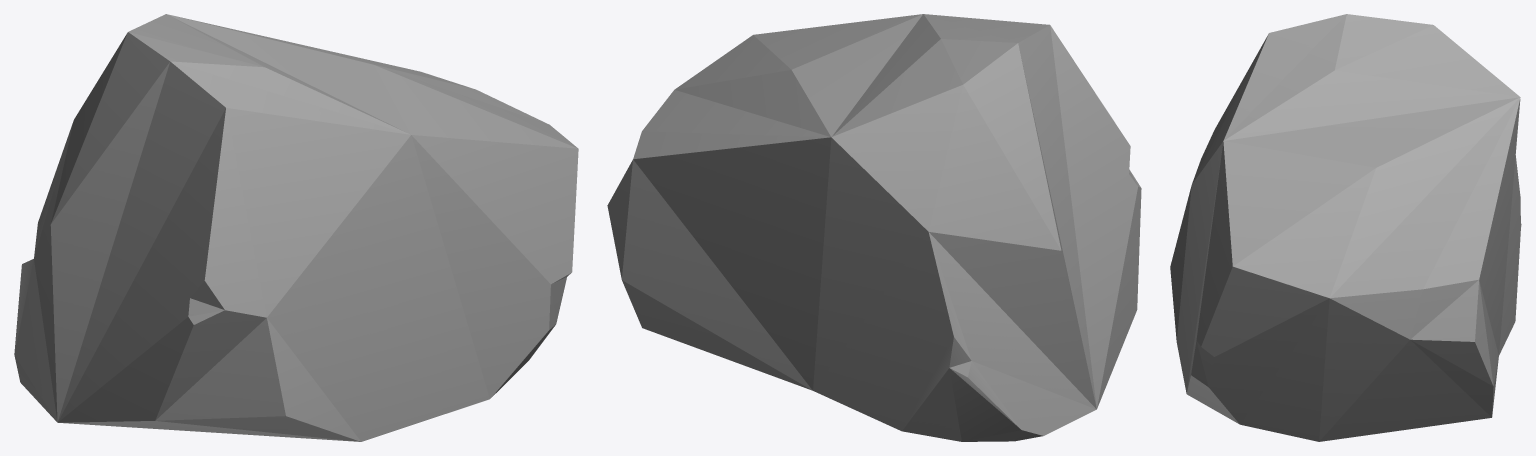
The model's file is stone-small-4.glb.
The picture shows the model from 3 angles, left to right: view 1: azimuth 30°, elevation 25°; view 2: azimuth 150°, elevation 25°; view 3: azimuth 270°, elevation 25°; orthographic projection. The views are drawn at different scales.
Visible parts, largest first — view 1: stone small 4; view 2: stone small 4; view 3: stone small 4.
Part boxes in pixels (<box>): stone small 4: <box>14,14,578,441</box>; stone small 4: <box>607,14,1141,441</box>; stone small 4: <box>1170,14,1521,441</box>.
Size of the model in its own units: 1.55 by 1.13 by 1.16.
Materials: 1 (1 with a texture image).
